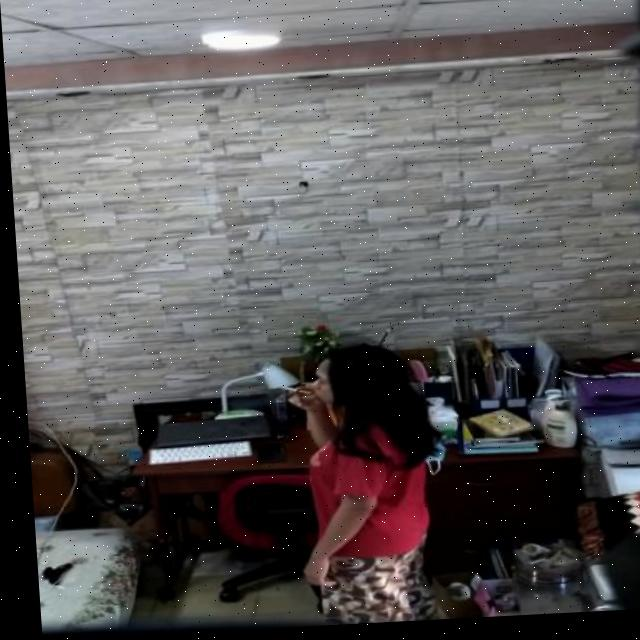cigarette: (273, 388, 305, 400)
